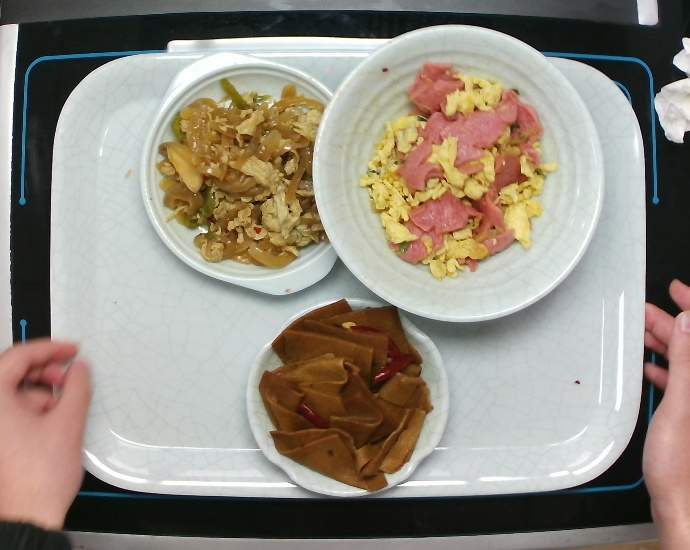JYsf-Ao_Yuan_Wan: (243, 294, 453, 497)
JYsf-Shuang_Er_Pan: (137, 49, 345, 297)
JYsf-Xiao_Tang_Wan: (310, 22, 608, 325)
